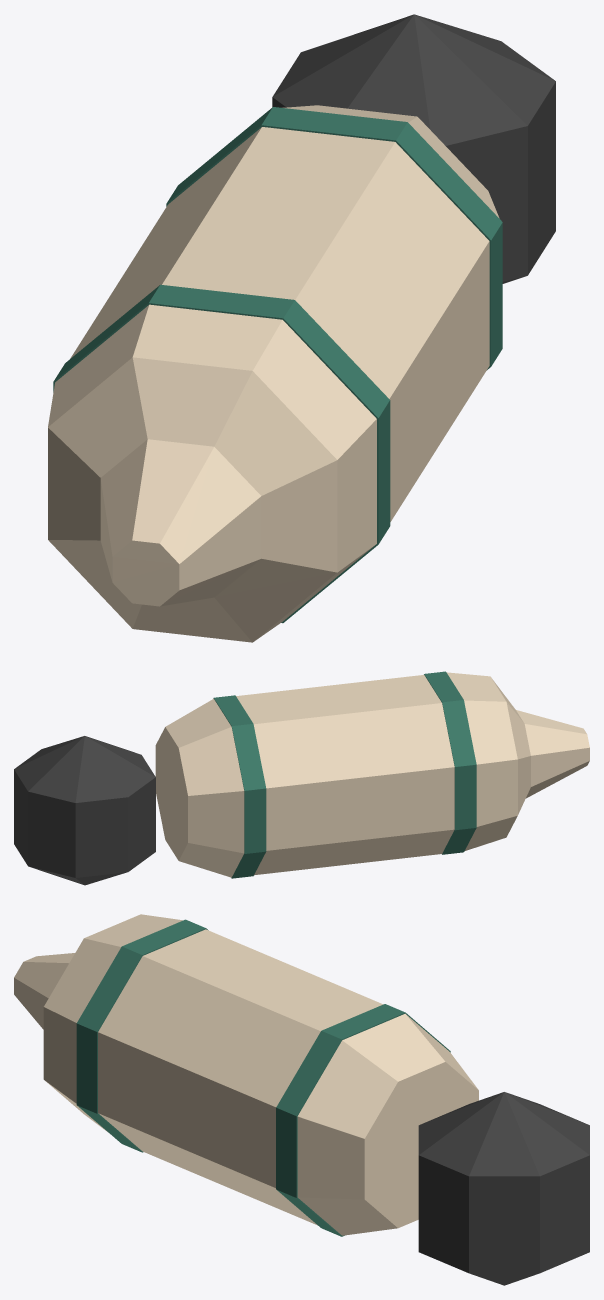
File: ce_ammo2_powder_inc_a.obj
The picture shows the model from 3 angles, top to bottom: view 1: azimuth 30°, elevation 25°; view 2: azimuth 150°, elevation 25°; view 3: azimuth 270°, elevation 25°; orthographic projection. The views are drawn at different scales.
Visible parts, largest first — view 1: ce_ammo2_powder_inc_a_4, ce_ammo2_powder_inc_a_1, ce_ammo2_powder_inc_a_7, ce_ammo2_powder_inc_a_2, ce_ammo2_powder_inc_a_0, ce_ammo2_powder_inc_a_3, ce_ammo2_powder_inc_a_5, ce_ammo2_powder_inc_a_6; view 2: ce_ammo2_powder_inc_a_4, ce_ammo2_powder_inc_a_7, ce_ammo2_powder_inc_a_6, ce_ammo2_powder_inc_a_2, ce_ammo2_powder_inc_a_5, ce_ammo2_powder_inc_a_3, ce_ammo2_powder_inc_a_0, ce_ammo2_powder_inc_a_1; view 3: ce_ammo2_powder_inc_a_4, ce_ammo2_powder_inc_a_7, ce_ammo2_powder_inc_a_6, ce_ammo2_powder_inc_a_2, ce_ammo2_powder_inc_a_5, ce_ammo2_powder_inc_a_3, ce_ammo2_powder_inc_a_0.
Boxes of the visible parts, left/top/right/bottom form: ce_ammo2_powder_inc_a_4: left=70, top=127, right=489, bottom=521; ce_ammo2_powder_inc_a_1: left=48, top=357, right=337, bottom=642; ce_ammo2_powder_inc_a_7: left=272, top=14, right=555, bottom=283; ce_ammo2_powder_inc_a_2: left=48, top=304, right=376, bottom=641; ce_ammo2_powder_inc_a_0: left=100, top=439, right=261, bottom=606; ce_ammo2_powder_inc_a_3: left=53, top=284, right=390, bottom=623; ce_ammo2_powder_inc_a_5: left=166, top=107, right=502, bottom=369; ce_ammo2_powder_inc_a_6: left=282, top=105, right=499, bottom=218; ce_ammo2_powder_inc_a_4: left=236, top=675, right=454, bottom=875; ce_ammo2_powder_inc_a_7: left=14, top=736, right=155, bottom=885; ce_ammo2_powder_inc_a_6: left=155, top=699, right=244, bottom=877; ce_ammo2_powder_inc_a_2: left=446, top=672, right=517, bottom=850; ce_ammo2_powder_inc_a_5: left=213, top=695, right=266, bottom=878; ce_ammo2_powder_inc_a_3: left=424, top=671, right=476, bottom=854; ce_ammo2_powder_inc_a_0: left=516, top=710, right=589, bottom=798; ce_ammo2_powder_inc_a_1: left=491, top=677, right=530, bottom=814; ce_ammo2_powder_inc_a_4: left=98, top=929, right=382, bottom=1225; ce_ammo2_powder_inc_a_7: left=418, top=1092, right=589, bottom=1285; ce_ammo2_powder_inc_a_6: left=297, top=1013, right=478, bottom=1235; ce_ammo2_powder_inc_a_2: left=43, top=914, right=182, bottom=1131; ce_ammo2_powder_inc_a_5: left=276, top=1004, right=450, bottom=1236; ce_ammo2_powder_inc_a_3: left=76, top=919, right=208, bottom=1152; ce_ammo2_powder_inc_a_0: left=14, top=953, right=74, bottom=1029.
Size of the model in its own units: 0.5922 by 0.232 by 0.5922.
